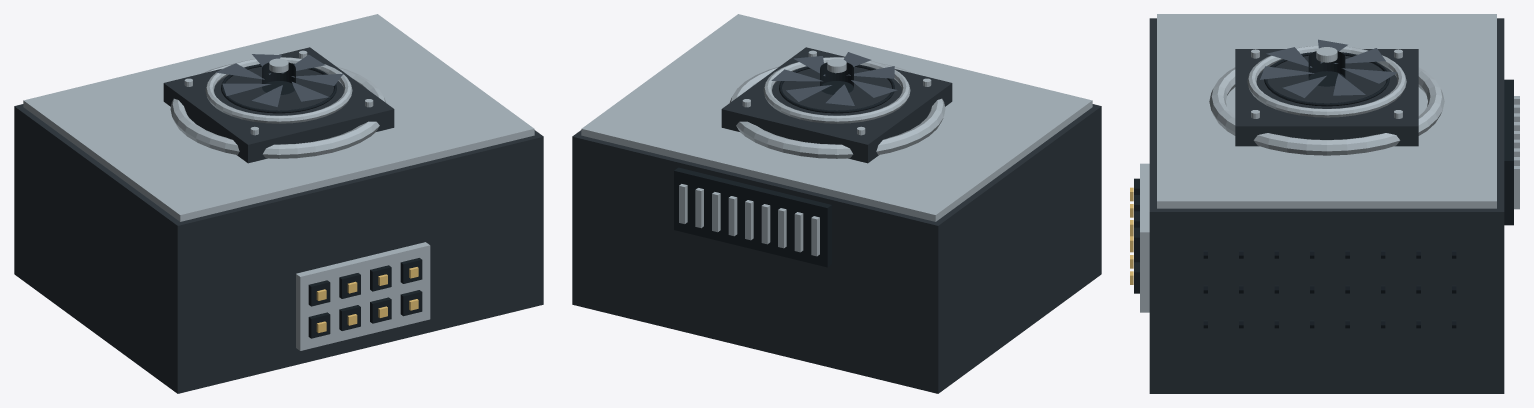
Rendered from psu-850w.glb.
3 renders of one model, left to right at view 1: azimuth 30°, elevation 25°; view 2: azimuth 150°, elevation 25°; view 3: azimuth 270°, elevation 25°, orthographic. The views are drawn at different scales.
Parts seen in each view (by area): view 1: psu-850w; view 2: psu-850w; view 3: psu-850w.
Boxes of the visible parts, x1,y1,x2,y2 form: psu-850w: (14, 14, 543, 393); psu-850w: (572, 14, 1101, 393); psu-850w: (1130, 14, 1519, 393).
Size of the model in its own units: 1.56 by 0.9175 by 1.32.
